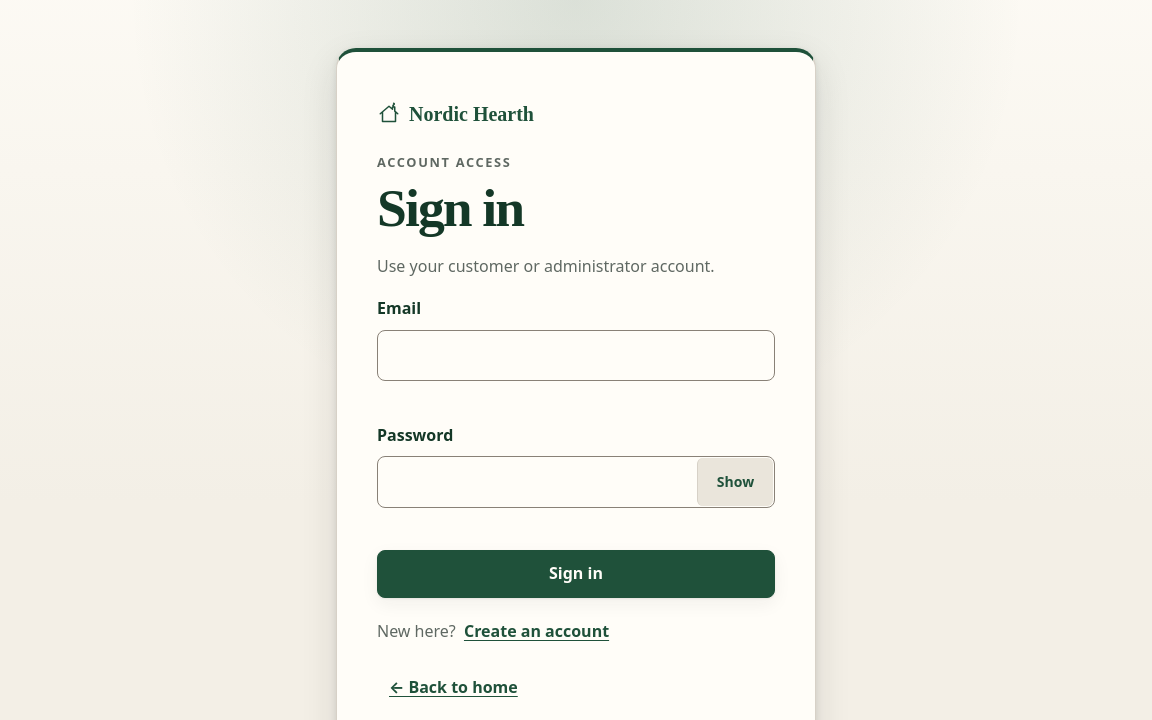
Test case: shared login page › toggles password visibility without changing its value or revealing after validation
Type " exact password " into the password field labelled "Password" at (576, 482), box [377, 456, 775, 508]
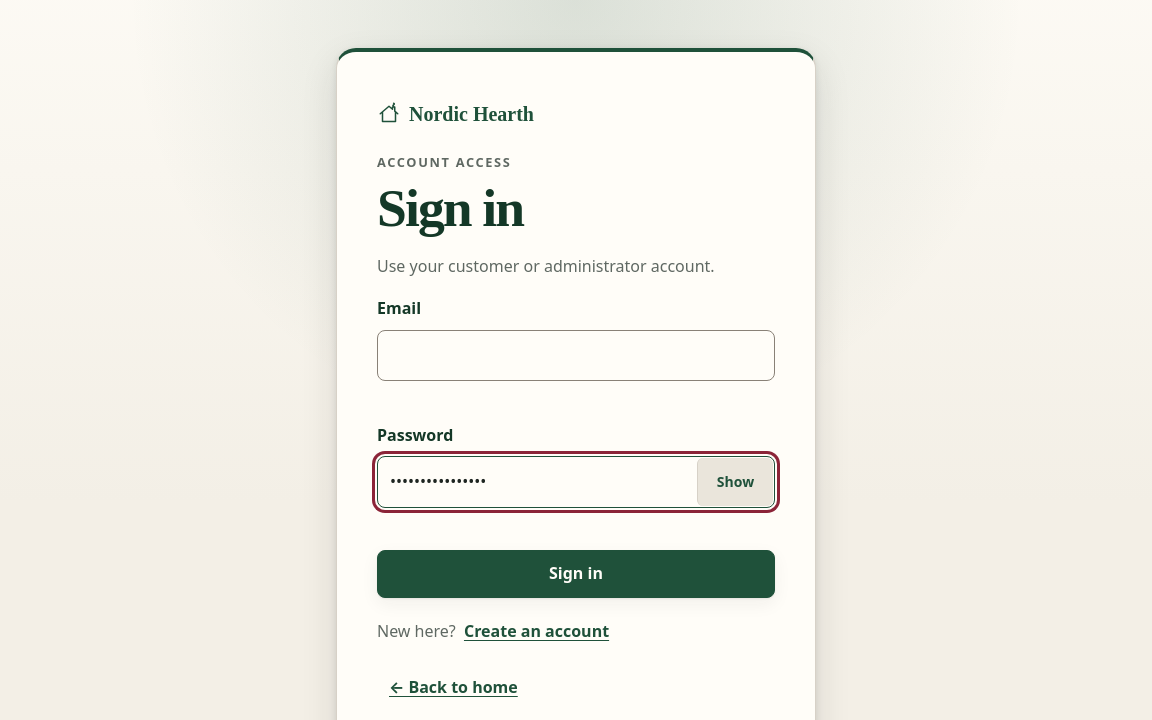
Click the button with aria-label "Show password" at (735, 482), box [697, 458, 773, 506]
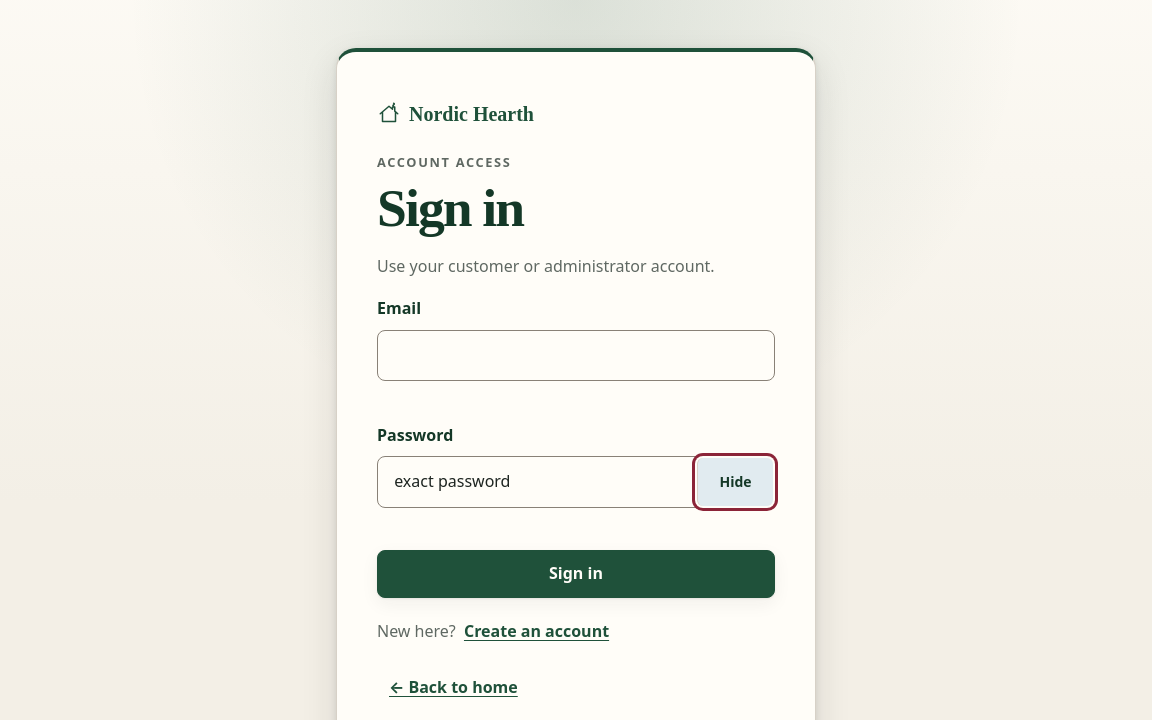
Result: the field labelled "Password" shows its text at [377, 456, 775, 508]
Click the button with aria-label "Hide password" at (735, 482), box [697, 458, 773, 506]
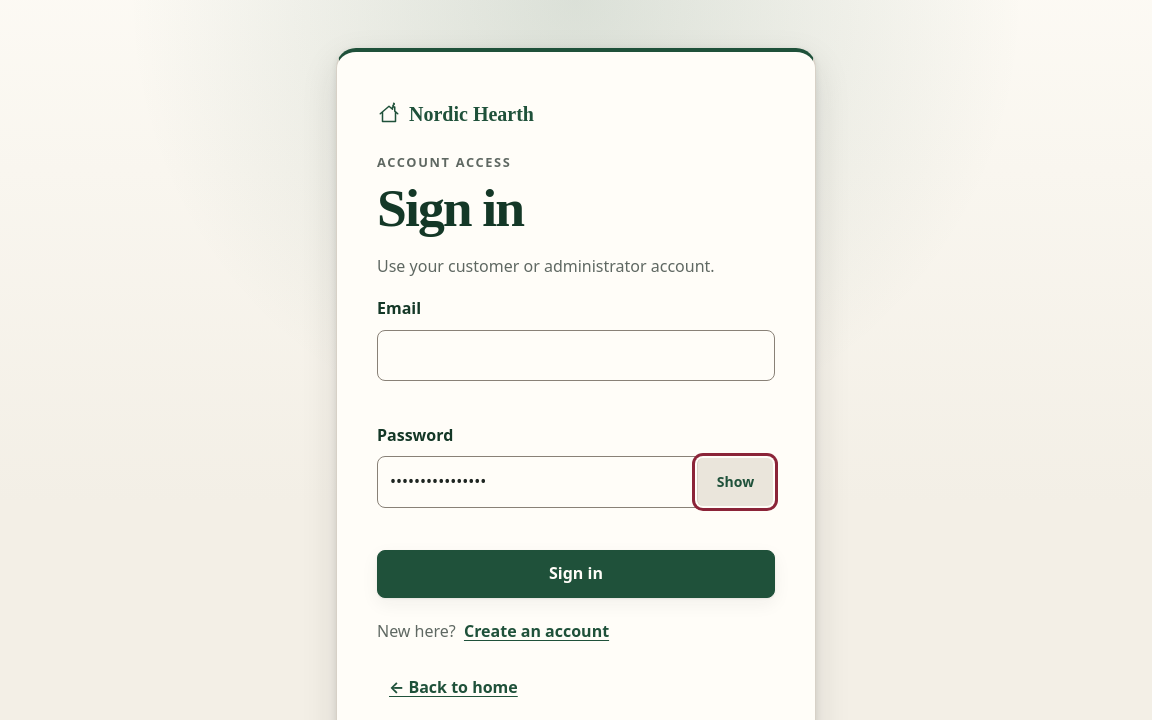
Click the button "Sign in" at (576, 574), box [377, 550, 775, 598]
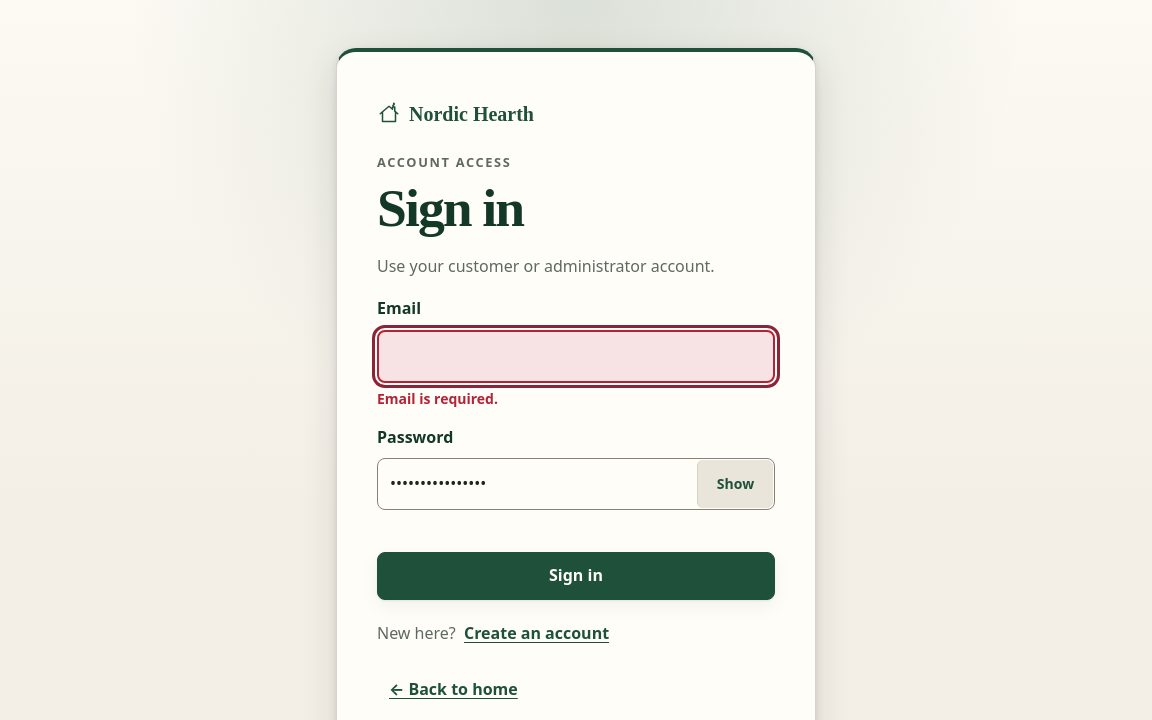
Result: the password field labelled "Password" hides its text at [377, 458, 775, 510]
Result: the text "Email is required." is shown at [377, 389, 498, 408]
